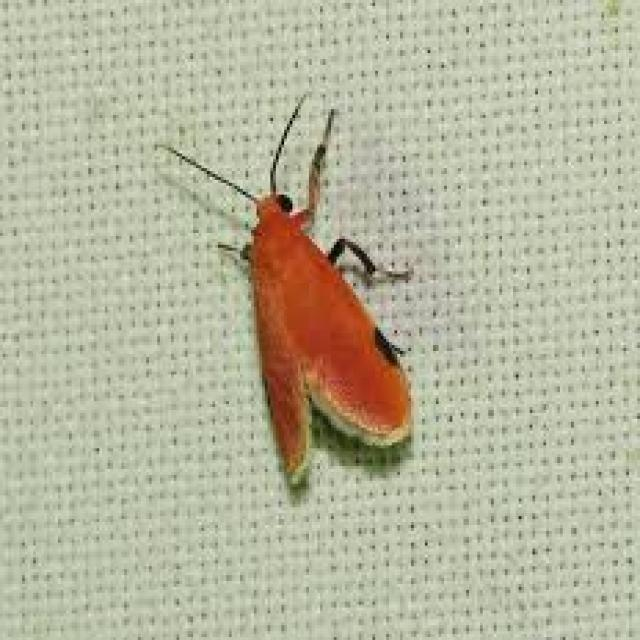yellow-stem-borer: (164, 114, 474, 500)
